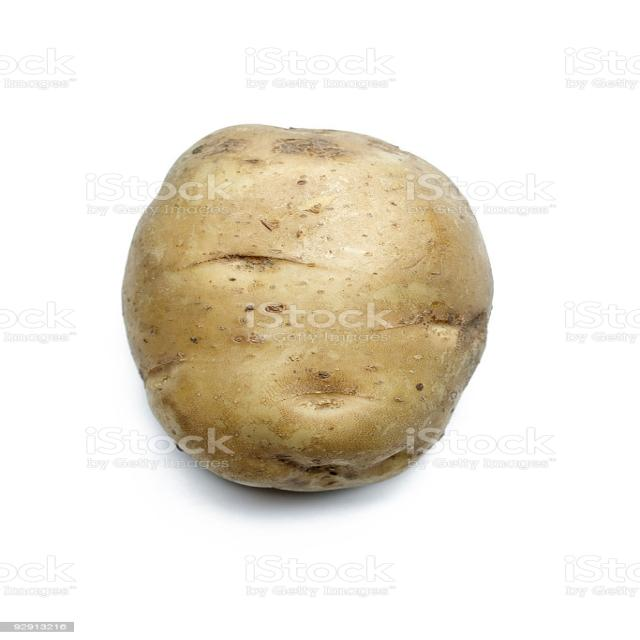potato: (122, 124, 496, 493)
